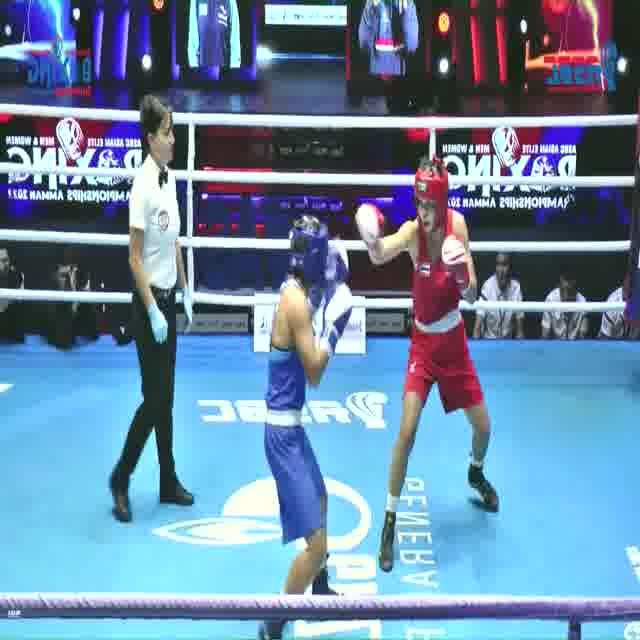blue-player: (255, 214, 360, 640)
red-player: (355, 156, 501, 576)
referee: (101, 89, 203, 528)
